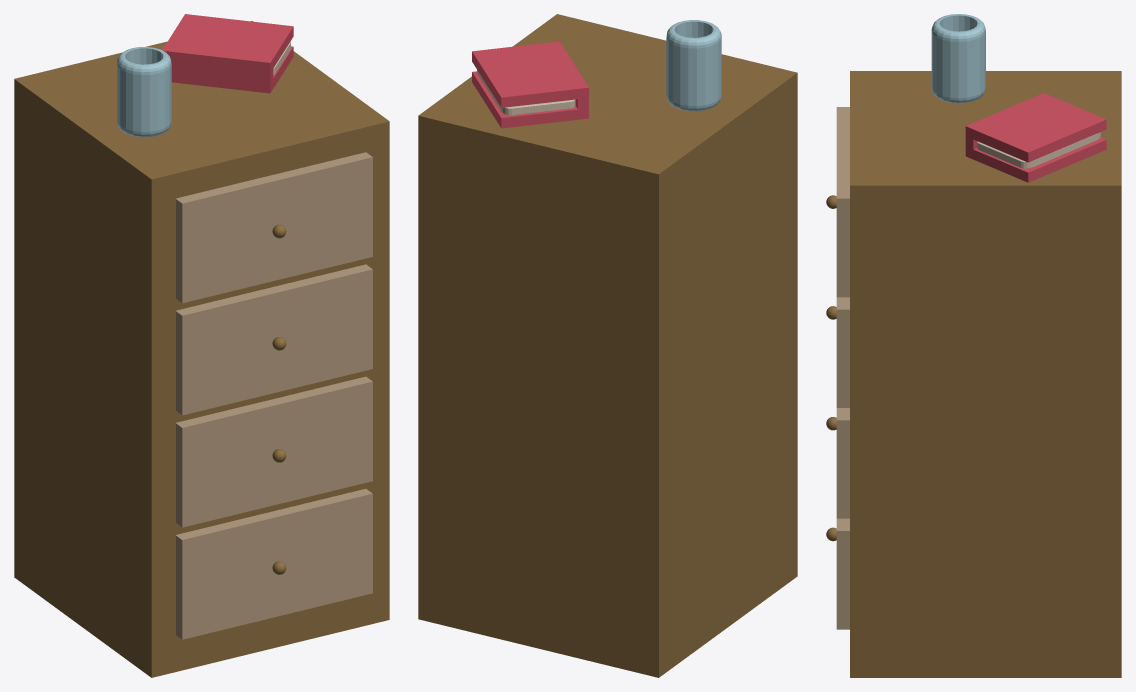
File: nightstand.glb
3 renders of one model, left to right at view 1: azimuth 30°, elevation 25°; view 2: azimuth 150°, elevation 25°; view 3: azimuth 270°, elevation 25°, orthographic. The views are drawn at different scales.
Visible parts, largest first — view 1: Mesh_Mesh_head_geo.001_lambert2SG.001; view 2: Mesh_Mesh_head_geo.001_lambert2SG.001; view 3: Mesh_Mesh_head_geo.001_lambert2SG.001.
Part boxes in pixels (x1=…): Mesh_Mesh_head_geo.001_lambert2SG.001: x1=14, y1=14, x2=389, y2=677; Mesh_Mesh_head_geo.001_lambert2SG.001: x1=418, y1=14, x2=797, y2=677; Mesh_Mesh_head_geo.001_lambert2SG.001: x1=826, y1=14, x2=1121, y2=677.
Size of the model in its own units: 20 by 45.71 by 21.75.
